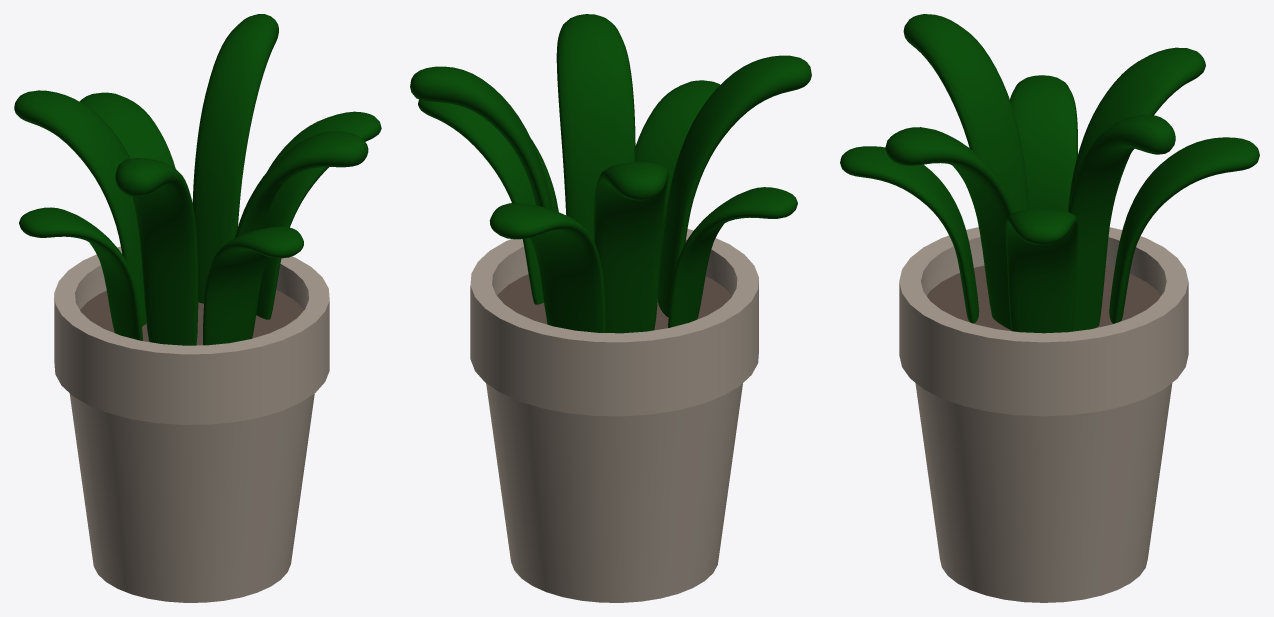
Rendered from Plante3_1.fbx.
The picture shows the model from 3 angles, left to right: view 1: azimuth 30°, elevation 25°; view 2: azimuth 150°, elevation 25°; view 3: azimuth 270°, elevation 25°; orthographic projection. The views are drawn at different scales.
Parts seen in each view (by area): view 1: pCylinder728, pCube1923, pCube1927, pCube1921, pCube1926, pCube1928, pCube1925, pCube1922, pCube1924, pCylinder729; view 2: pCylinder728, pCube1922, pCube1921, pCube1927, pCube1924, pCube1928, pCube1923, pCube1925, pCube1926, pCylinder729; view 3: pCylinder728, pCube1927, pCube1923, pCube1925, pCube1922, pCube1928, pCube1924, pCube1921, pCube1926, pCylinder729.
Part boxes in pixels (left/top/right/bottom): pCylinder728: left=54, top=246, right=329, bottom=602; pCube1923: left=192, top=14, right=278, bottom=303; pCube1927: left=115, top=158, right=198, bottom=345; pCube1921: left=14, top=90, right=146, bottom=326; pCube1926: left=203, top=226, right=303, bottom=345; pCube1928: left=19, top=207, right=142, bottom=340; pCube1925: left=256, top=111, right=381, bottom=319; pCube1922: left=235, top=131, right=368, bottom=237; pCube1924: left=79, top=92, right=175, bottom=168; pCylinder729: left=80, top=290, right=303, bottom=345; pCylinder728: left=470, top=229, right=758, bottom=602; pCube1922: left=556, top=14, right=635, bottom=240; pCube1921: left=594, top=162, right=668, bottom=333; pCube1927: left=658, top=55, right=811, bottom=317; pCube1924: left=489, top=203, right=605, bottom=332; pCube1928: left=668, top=187, right=797, bottom=327; pCube1923: left=410, top=66, right=552, bottom=209; pCube1925: left=418, top=99, right=558, bottom=304; pCube1926: left=635, top=80, right=720, bottom=279; pCylinder729: left=497, top=274, right=731, bottom=330; pCylinder728: left=899, top=227, right=1188, bottom=602; pCube1927: left=903, top=14, right=1028, bottom=211; pCube1923: left=1068, top=114, right=1175, bottom=331; pCube1925: left=1005, top=208, right=1078, bottom=333; pCube1922: left=885, top=127, right=1014, bottom=329; pCube1928: left=1010, top=75, right=1077, bottom=211; pCube1924: left=1109, top=137, right=1259, bottom=323; pCube1921: left=1068, top=47, right=1205, bottom=221; pCube1926: left=840, top=146, right=979, bottom=323; pCylinder729: left=927, top=265, right=1160, bottom=330.
Bounding box in the file's own units: 16.65 × 21.34 × 16.27.
